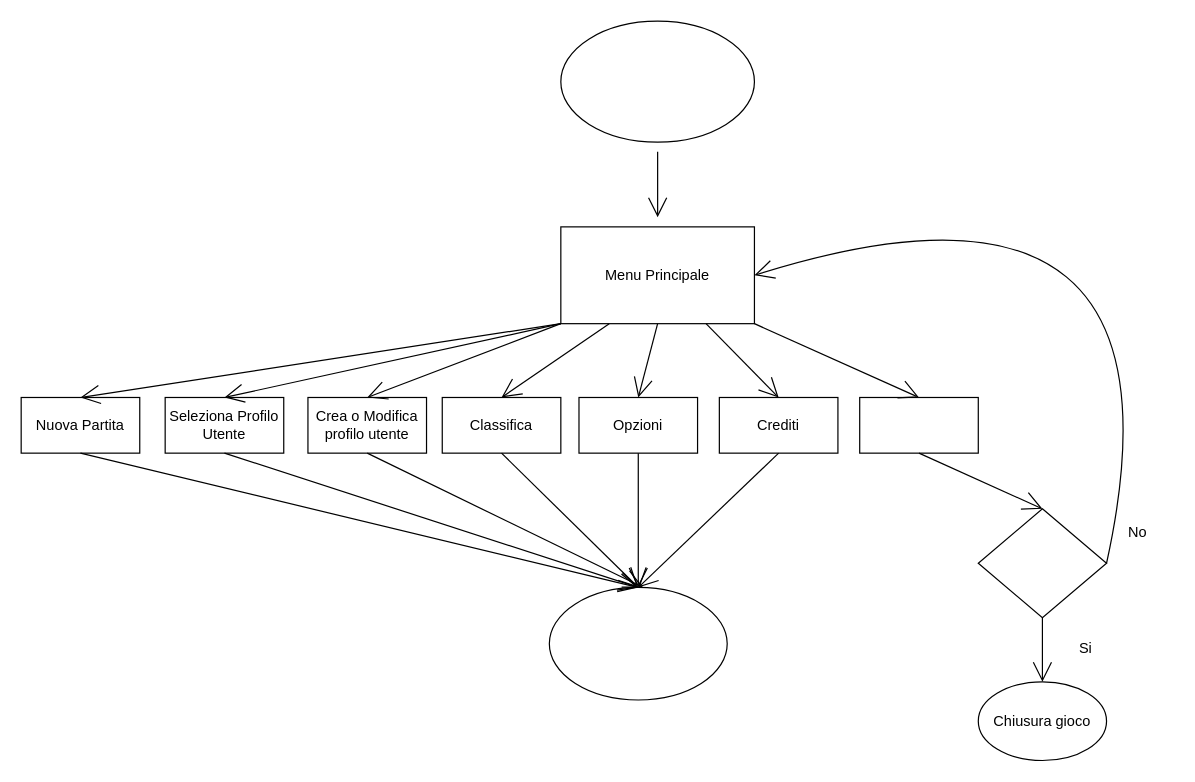
Image size: 1195x782. Some labels were removed from this diagram. Here are the shapes that lost their labels. From the top down, the centre of each, then its label:
pixel 657 81: Avvio gioco
pixel 918 424: Esci
pixel 1042 563: Sei sicuro di uscire?
pixel 637 643: Apertura sezione menu selezionata
